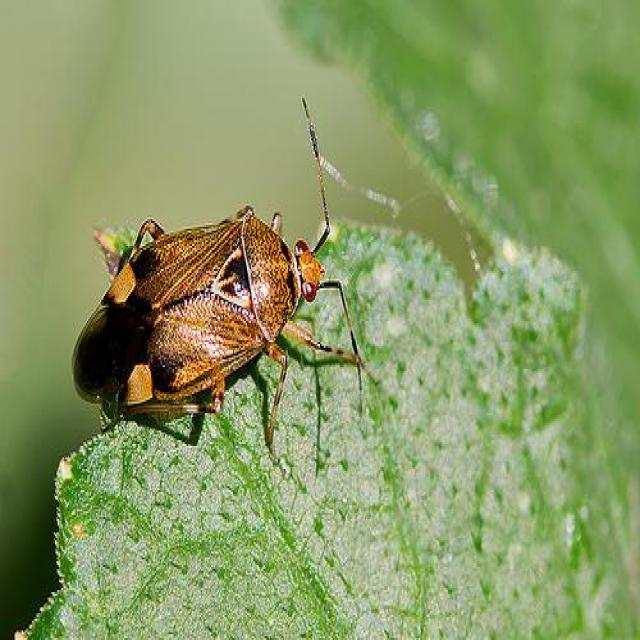Miridae-Adult-: (43, 94, 381, 465)
